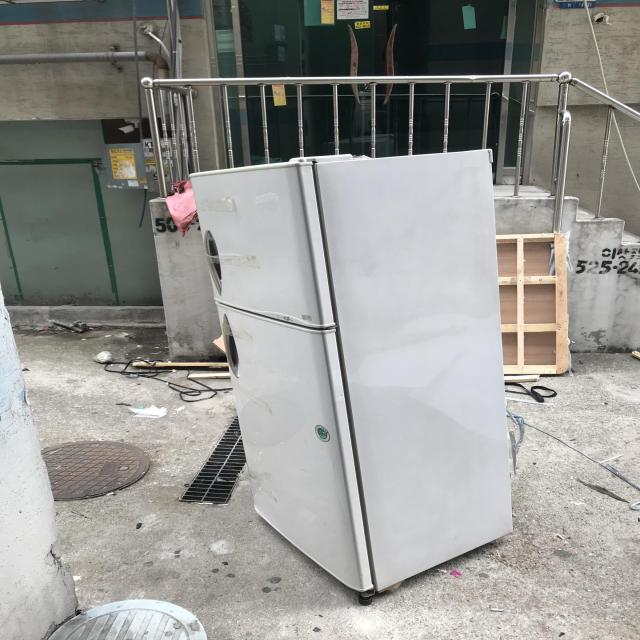refrigerator: (185, 149, 517, 613)
